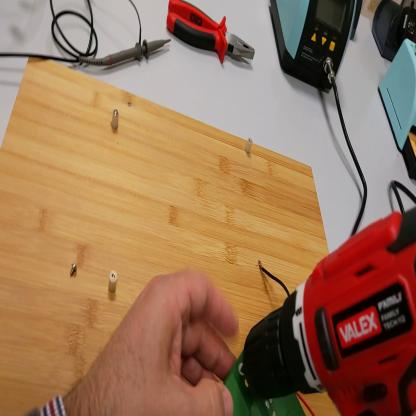electric screwdriver: (240, 207, 416, 416)
hand: (86, 270, 238, 415)
low voltage board: (222, 260, 315, 416)
oscilloscope probe tip: (93, 35, 174, 71)
pliers: (169, 2, 257, 69)
socket: (375, 2, 416, 64), (352, 1, 364, 45)
welder base: (378, 34, 416, 183)
welder station: (271, 1, 360, 93)
working area: (2, 52, 339, 414)
